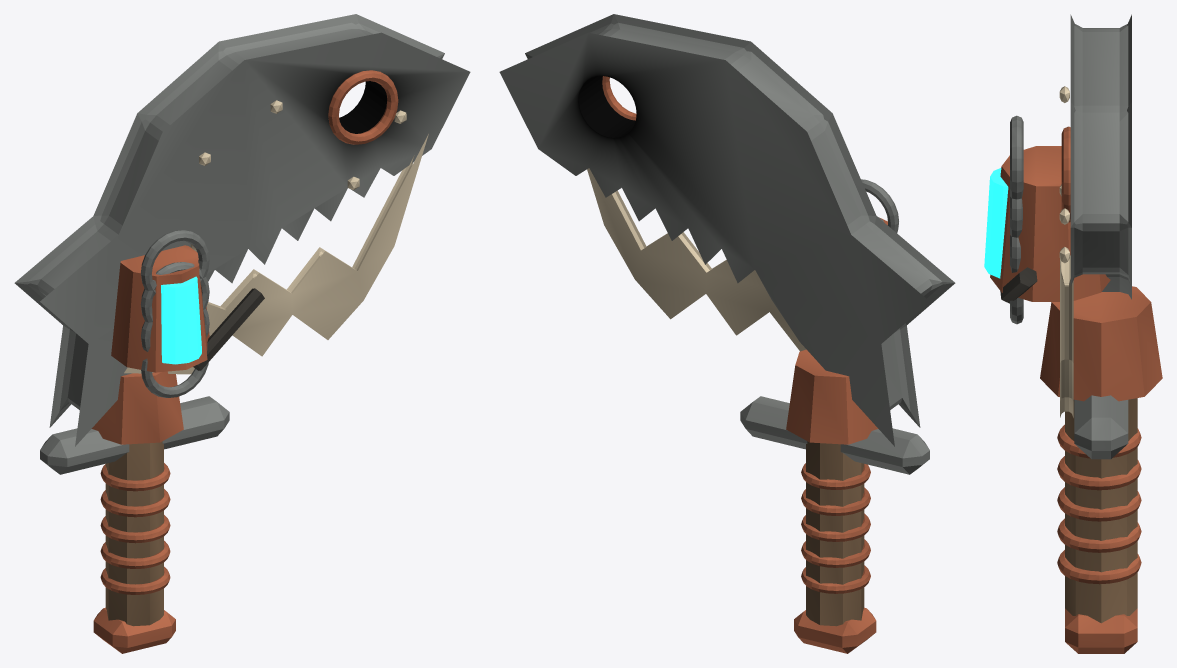
Rendered from ash-cleaver.glb.
3 views of the same model, side by side, from view 1: azimuth 30°, elevation 25°; view 2: azimuth 150°, elevation 25°; view 3: azimuth 270°, elevation 25° (orthographic). The views are drawn at different scales.
Visible parts, largest first — view 1: Cleaver | forged silhouette, Cleaver | pale cutting bevel, Cleaver | wrapped handle, Cleaver | reactor cage upper, Cleaver | cross guard, Cleaver | socket collar, Cleaver | cyan reactor, Cleaver | punched rim, Cleaver | pommel, Cleaver | reactor clamp.003, Cleaver | reactor power cable, Cleaver | reactor clamp (+6 smaller); view 2: Cleaver | forged silhouette, Cleaver | pale cutting bevel, Cleaver | wrapped handle, Cleaver | socket collar, Cleaver | cross guard, Cleaver | pommel, Cleaver | grip binding.002, Cleaver | grip binding.001, Cleaver | grip binding.003, Cleaver | grip binding, Cleaver | grip binding.004, Cleaver | reactor clamp.003; view 3: Cleaver | forged silhouette, Cleaver | socket collar, Cleaver | wrapped handle, Cleaver | reactor cage upper, Cleaver | cross guard, Cleaver | pommel, Cleaver | pale cutting bevel, Cleaver | cyan reactor, Cleaver | grip binding.001, Cleaver | grip binding.002, Cleaver | grip binding, Cleaver | grip binding.003 (+7 smaller).
Part boxes in pixels (<box>): Cleaver | forged silhouette: <box>14,14,470,446</box>; Cleaver | pale cutting bevel: <box>124,134,428,374</box>; Cleaver | wrapped handle: <box>105,441,163,626</box>; Cleaver | reactor cage upper: <box>111,245,209,372</box>; Cleaver | cross guard: <box>40,396,229,474</box>; Cleaver | socket collar: <box>91,371,183,444</box>; Cleaver | cyan reactor: <box>161,276,201,364</box>; Cleaver | punched rim: <box>328,70,398,144</box>; Cleaver | pommel: <box>93,607,175,653</box>; Cleaver | reactor clamp.003: <box>141,230,209,296</box>; Cleaver | reactor power cable: <box>193,288,264,370</box>; Cleaver | reactor clamp: <box>141,358,208,397</box>; Cleaver | forged silhouette: <box>499,14,955,446</box>; Cleaver | pale cutting bevel: <box>587,168,806,351</box>; Cleaver | wrapped handle: <box>806,441,864,626</box>; Cleaver | socket collar: <box>786,349,878,444</box>; Cleaver | cross guard: <box>740,396,929,474</box>; Cleaver | pommel: <box>794,607,876,653</box>; Cleaver | grip binding.002: <box>801,513,870,541</box>; Cleaver | grip binding.001: <box>801,539,870,567</box>; Cleaver | grip binding.003: <box>801,487,870,515</box>; Cleaver | grip binding: <box>801,565,870,593</box>; Cleaver | grip binding.004: <box>801,463,870,489</box>; Cleaver | reactor clamp.003: <box>861,179,898,232</box>; Cleaver | forged silhouette: <box>1070,14,1131,299</box>; Cleaver | socket collar: <box>1040,286,1162,401</box>; Cleaver | wrapped handle: <box>1065,398,1137,623</box>; Cleaver | reactor cage upper: <box>990,146,1110,301</box>; Cleaver | cross guard: <box>1074,395,1128,459</box>; Cleaver | pommel: <box>1065,608,1137,653</box>; Cleaver | pale cutting bevel: <box>1060,255,1073,417</box>; Cleaver | cyan reactor: <box>984,168,1008,278</box>; Cleaver | grip binding.001: <box>1057,518,1141,552</box>; Cleaver | grip binding.002: <box>1057,487,1141,521</box>; Cleaver | grip binding: <box>1057,550,1141,584</box>; Cleaver | grip binding.003: <box>1057,456,1141,490</box>.
Size of the model in its own units: 1.56 by 1.97 by 0.465.
